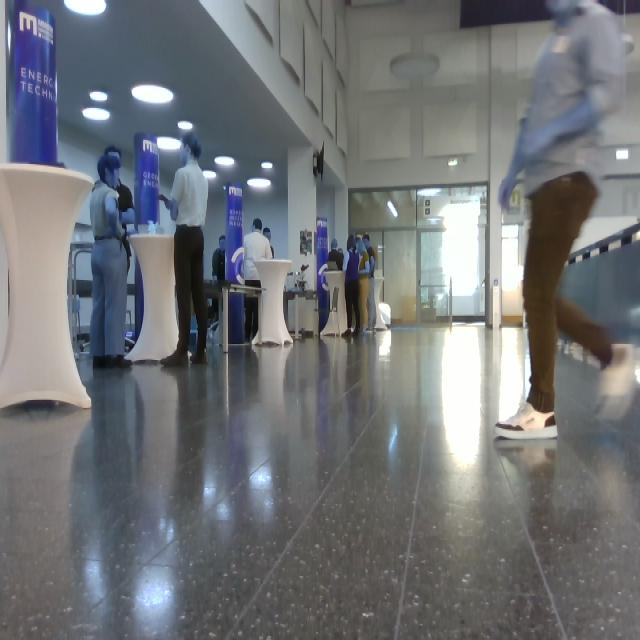door: (383, 229, 418, 325), (418, 229, 450, 324)
light bulb: (390, 52, 440, 81), (132, 84, 174, 105), (64, 1, 107, 17), (82, 108, 111, 121), (157, 137, 182, 150), (247, 178, 271, 188), (89, 91, 109, 103), (387, 200, 399, 217), (215, 156, 235, 166), (203, 170, 217, 180), (178, 121, 193, 130), (261, 161, 273, 169)
person: (494, 1, 633, 441), (157, 132, 209, 368), (90, 153, 134, 369), (243, 218, 273, 341), (342, 234, 362, 337), (209, 236, 226, 330)
pillar: (1, 163, 95, 411)
tiled floor: (1, 321, 639, 638)
